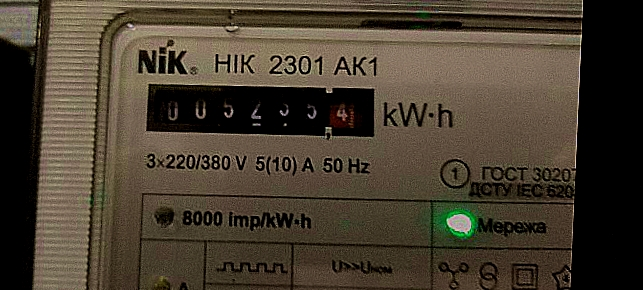0: (164, 96, 180, 121), (192, 95, 208, 119)
2: (247, 93, 264, 120)
3: (274, 91, 292, 117)
4: (332, 94, 351, 124)
5: (302, 92, 319, 120), (220, 93, 235, 119)
screen: (132, 66, 385, 149)
